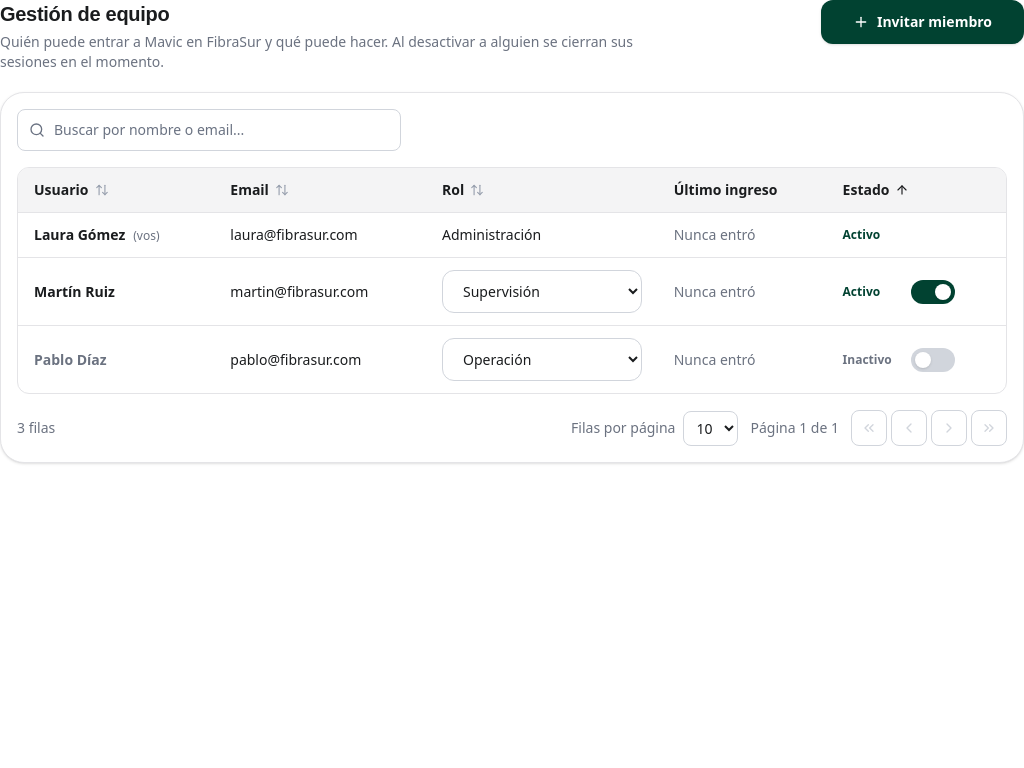
Test case: Configuración > Organización › invitar miembro: crea el usuario y muestra la contraseña una sola vez
Click the button "Invitar miembro". click: (922, 22)
box: [821,0,1023,44]
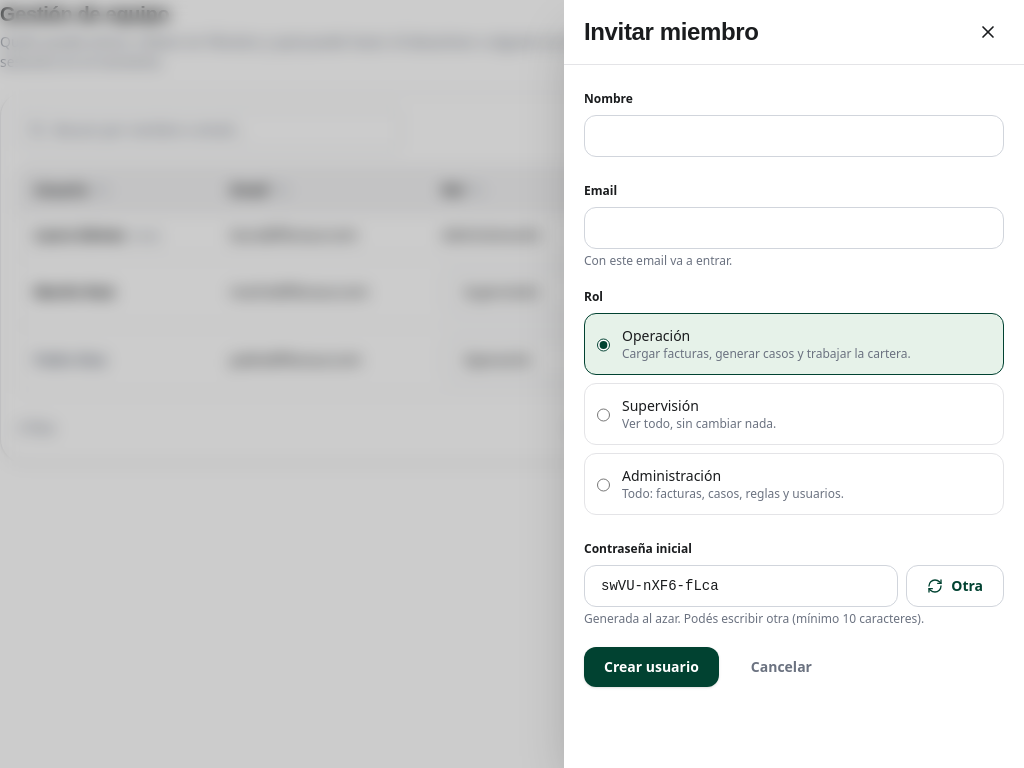
Type "Sofía Paz" into the field labelled "Nombre". click: (794, 136)
box: [584,115,1004,157]
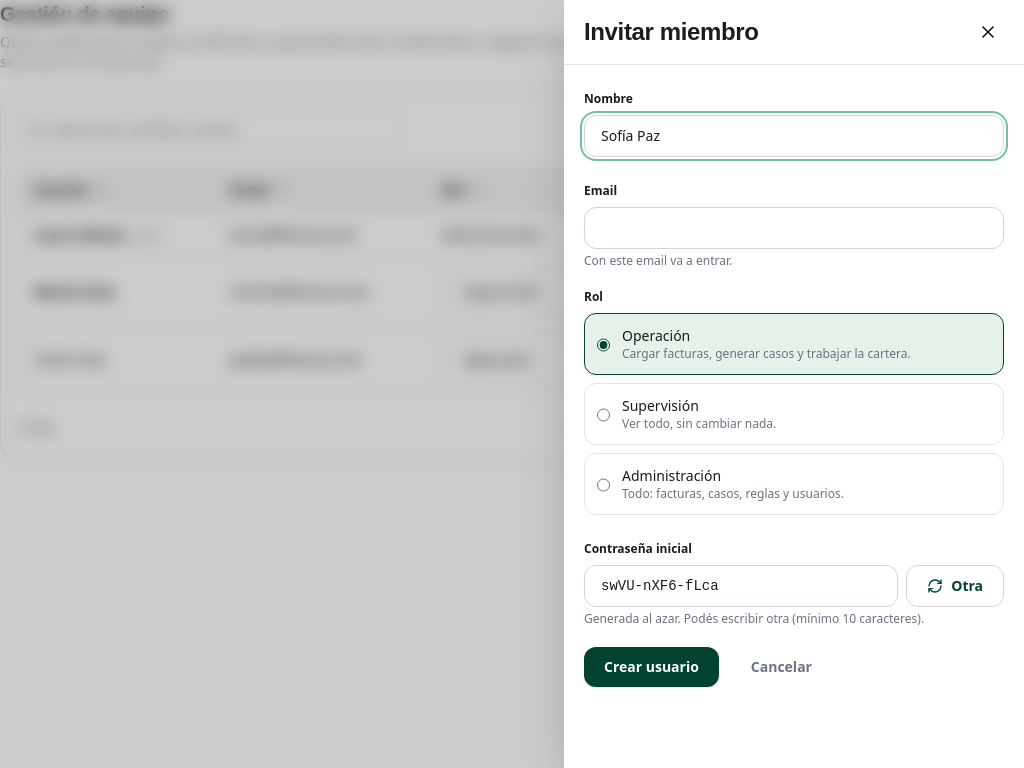
Type "sofia@fibrasur.com" into the field labelled "Email". click: (794, 228)
box: [584,207,1004,249]
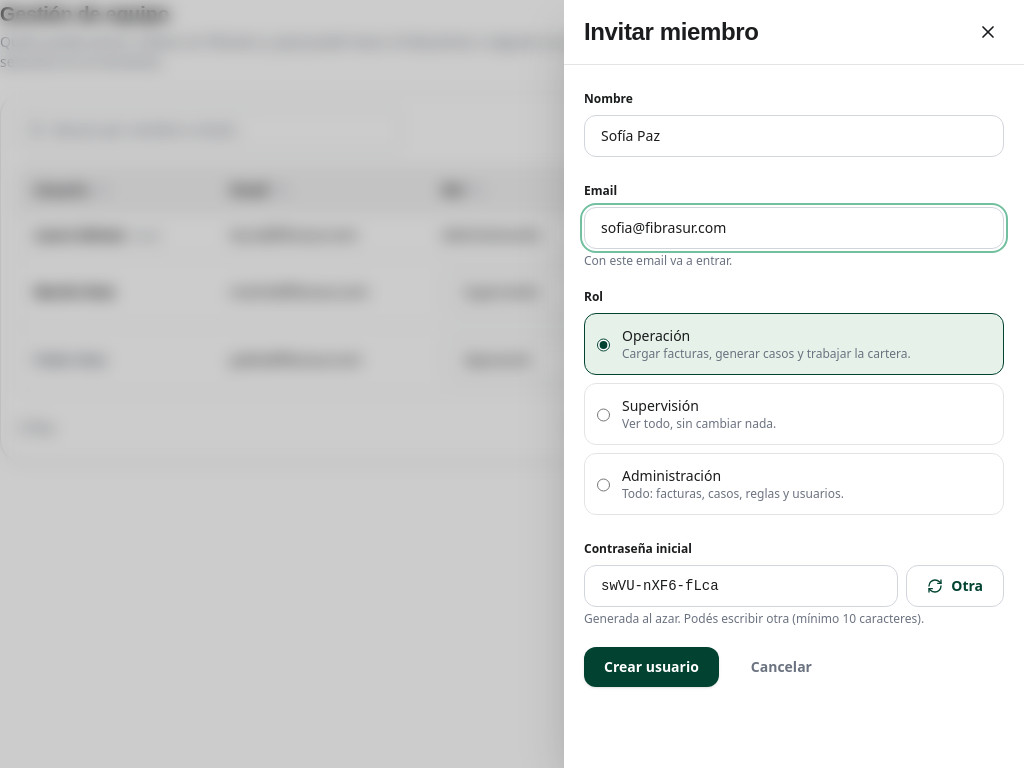
Click the button "Crear usuario". click: (651, 667)
box: [584,647,719,687]
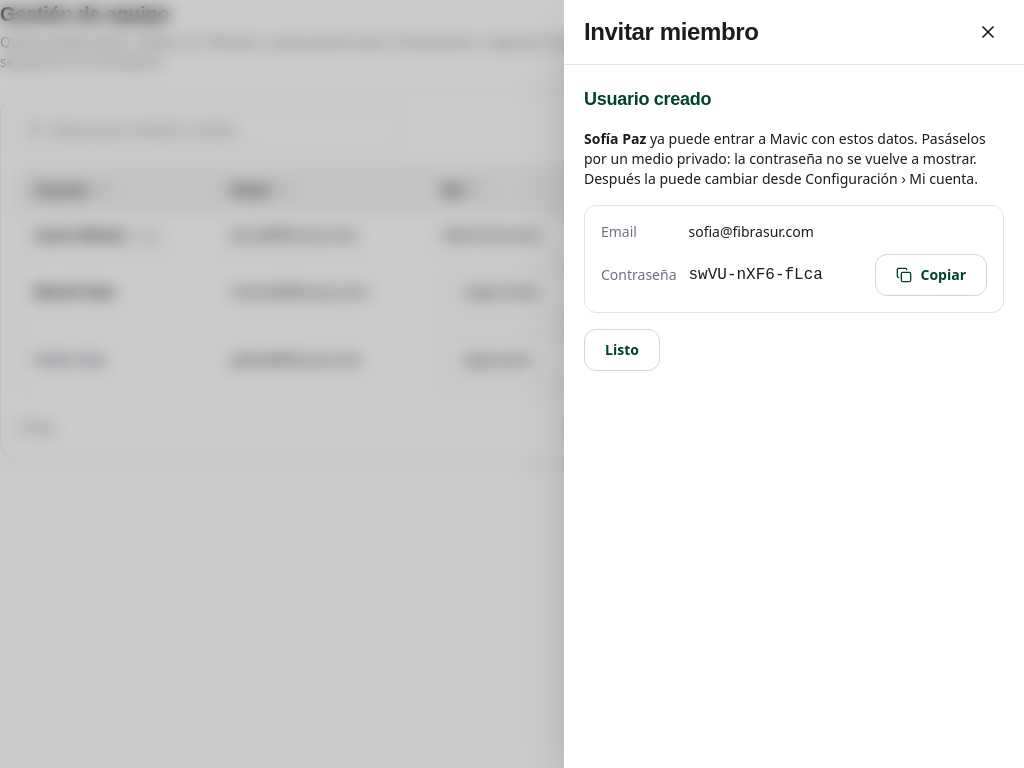
Now the heading "Usuario creado" is shown, box [584,89,711,109]
